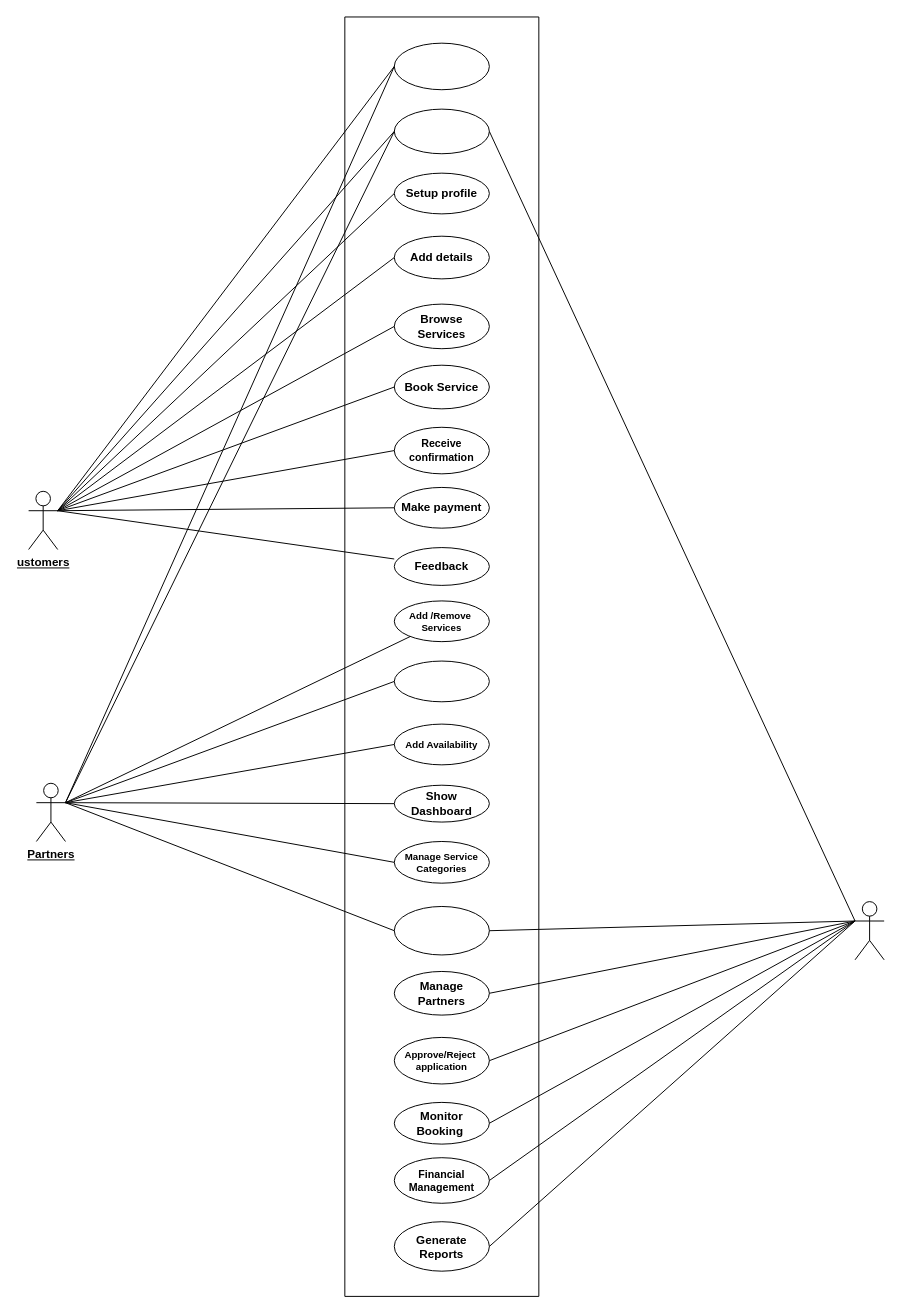
Some shapes in this 904 by 1313 pixel diagram are drawn without their labels. The centre of each missing label's shape, as x and y in pixels:
"Accept/Decline booking" goes at point (441, 681).
"Admin" goes at point (869, 930).
"Login" goes at point (441, 131).
"Modify Service Rates" goes at point (441, 930).
"Signup" goes at point (441, 66).
